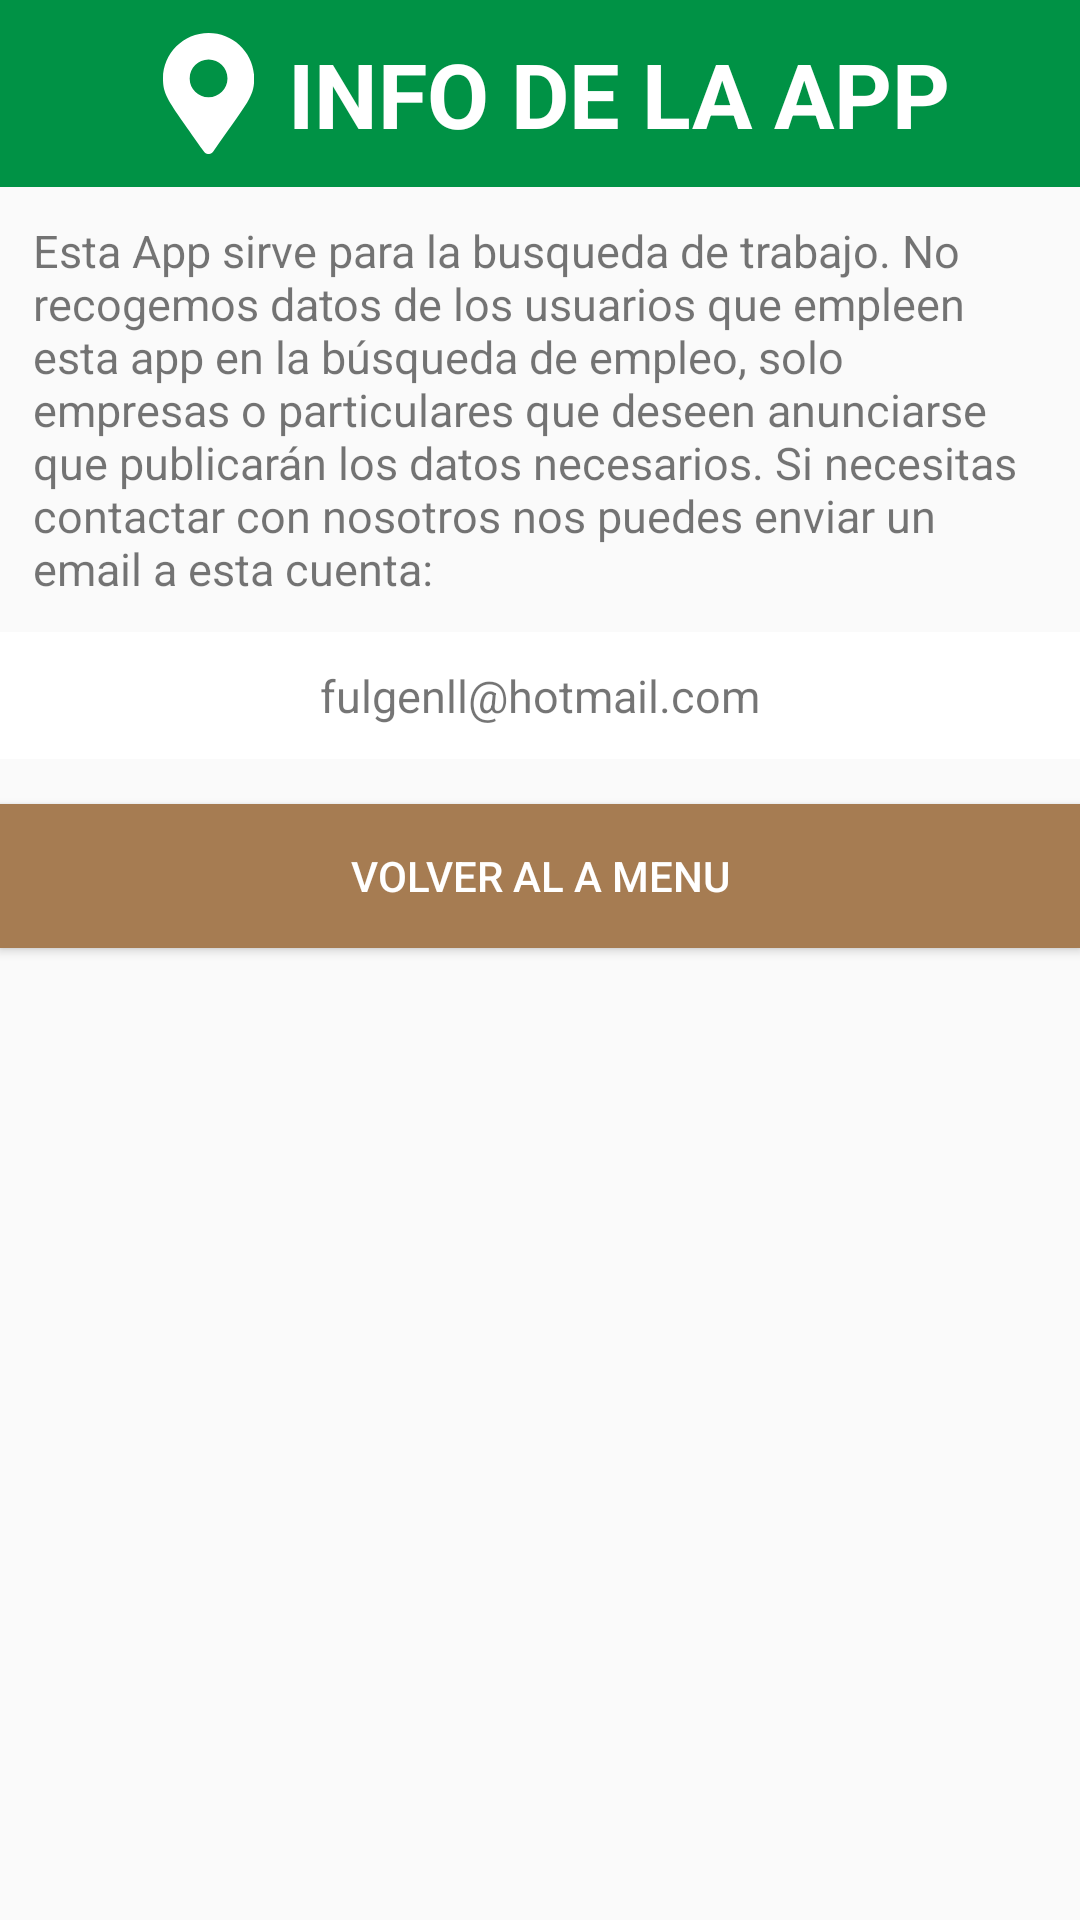

Named icons in this screenshot (1080*1920) and their bounding boxes, (x1, y1, x2, y2):
superior mapa: (163, 33, 254, 154)
